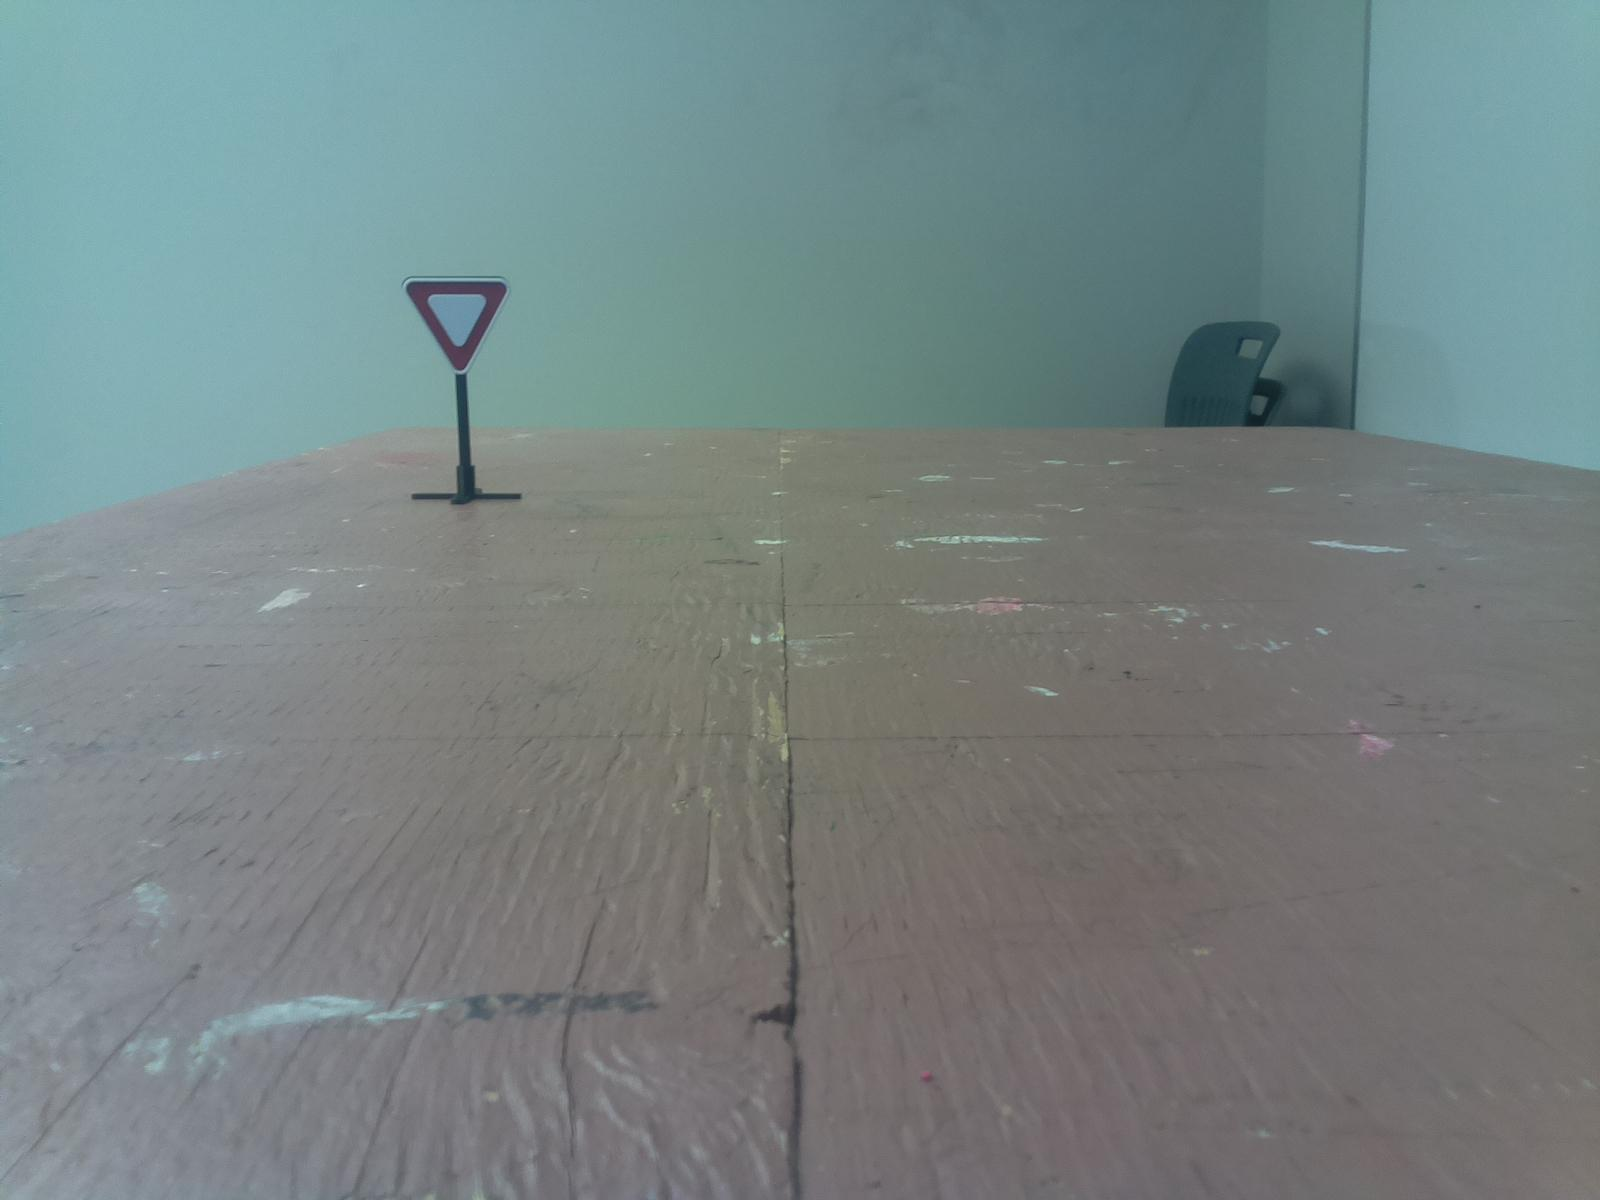sign_yield: (386, 268, 527, 379)
